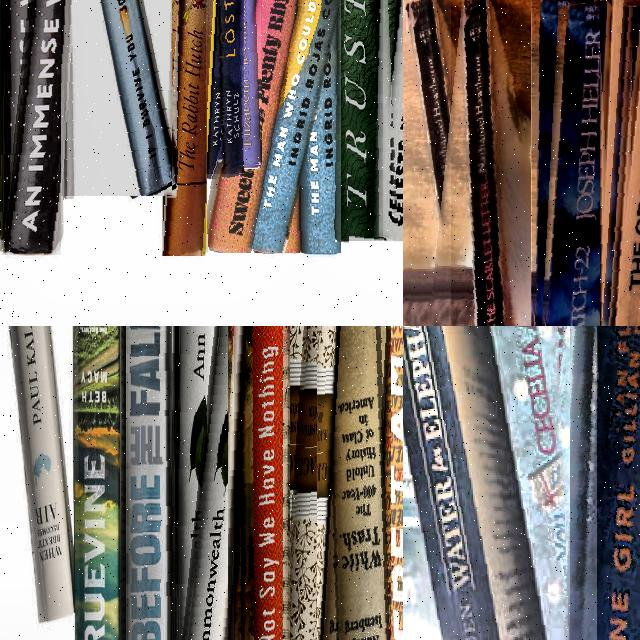Books: (403, 326, 543, 640), (494, 326, 596, 640), (451, 0, 531, 326), (204, 0, 297, 252), (243, 0, 334, 241), (323, 326, 388, 640), (9, 326, 74, 622), (541, 0, 599, 326), (73, 326, 129, 640), (585, 326, 640, 640), (236, 326, 288, 640), (180, 326, 228, 640), (2, 0, 60, 255), (98, 0, 172, 196), (127, 326, 172, 640), (364, 326, 403, 640), (162, 0, 206, 256), (281, 326, 316, 640), (333, 0, 378, 241), (228, 0, 261, 163), (215, 0, 243, 173)
